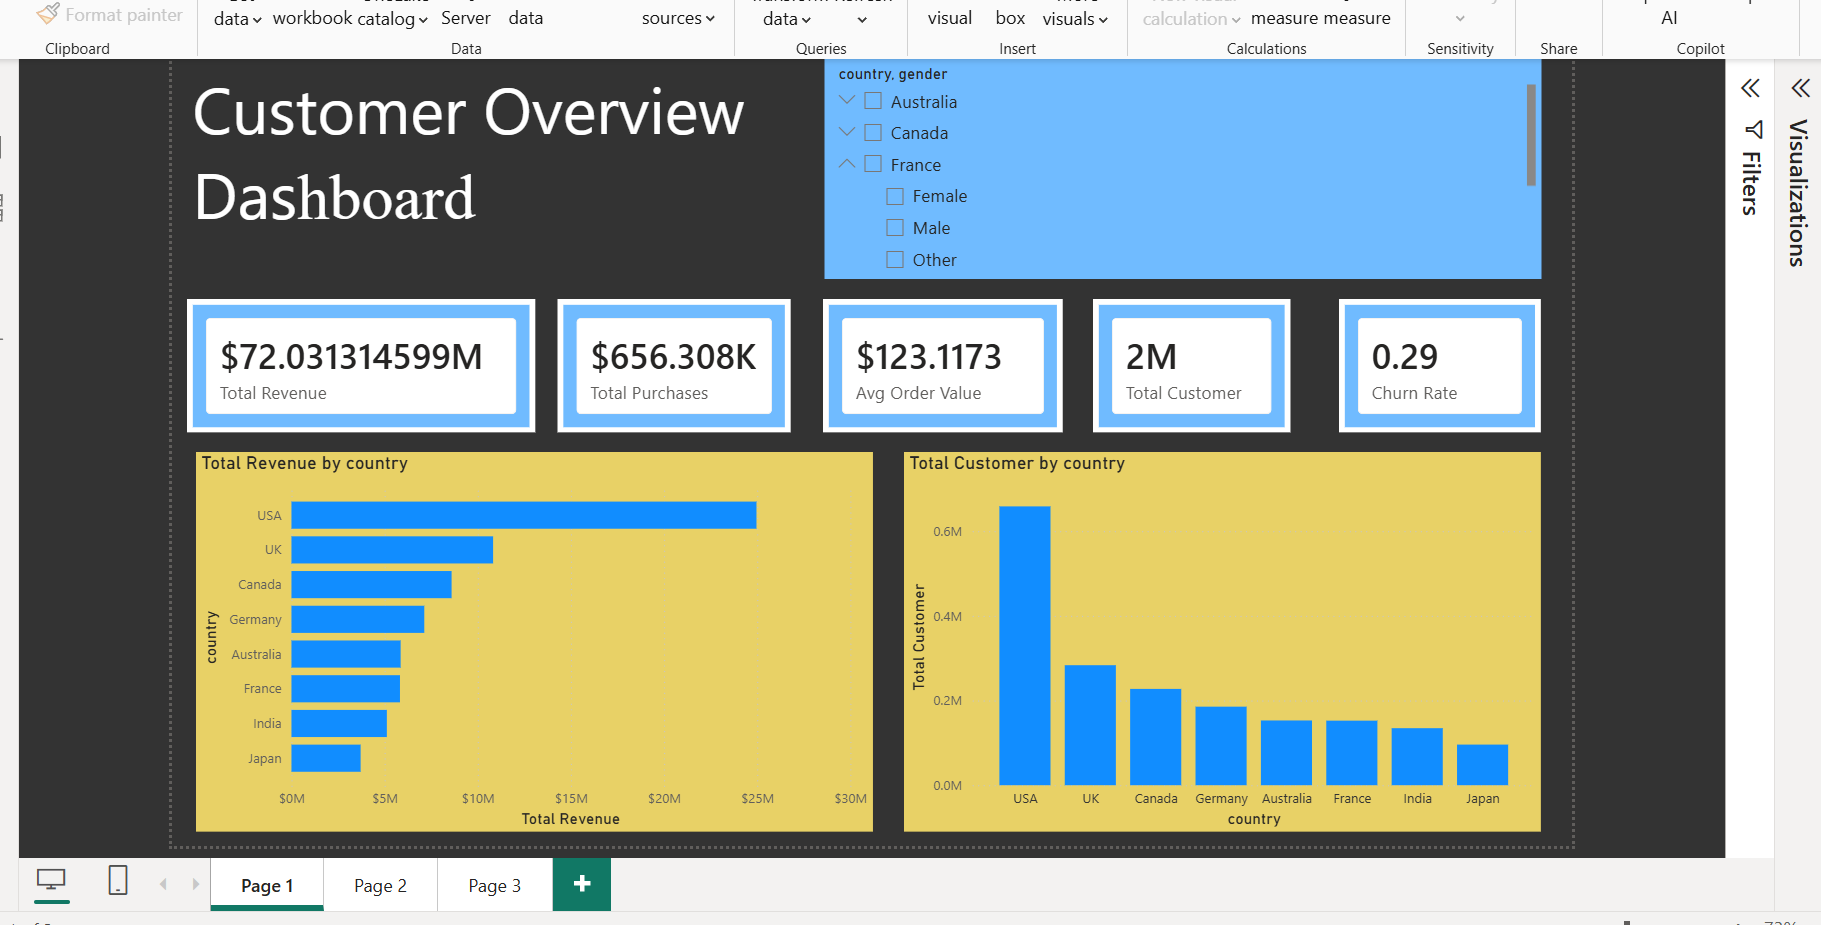

The dashboard page shown, as its layout file describes it:
{"tool":"powerbi","page":{"name":"Page 1","canvas":[1280,720],"ordinal":0},"visuals":[{"type":"cardVisual","fields":{"Data":["customer.Total Revenue"]},"box":[13.6,219.4,318.4,122.3],"z":0},{"type":"cardVisual","fields":{"Data":["customer.Total Customer"]},"box":[842.6,219.4,180.5,122.3],"z":1000},{"type":"cardVisual","fields":{"Data":["customer.Avg Order Value"]},"box":[596,219.4,219.4,122.3],"z":2000},{"type":"cardVisual","fields":{"Data":["customer.Churn Rate"]},"box":[1067.8,219.4,184.4,122.3],"z":3000},{"type":"cardVisual","fields":{"Data":["customer.Total Purchases"]},"box":[353.3,219.4,213.6,122.3],"z":4000},{"type":"barChart","fields":{"Y":["customer.Total Revenue"],"Category":["customer.country"]},"box":[21.4,359.2,619.3,347.5],"z":5000},{"type":"columnChart","fields":{"Category":["customer.country"],"Y":["customer.Total Customer"]},"box":[669.8,359.2,582.4,347.5],"z":6000},{"type":"textbox","box":[13.8,0,779.4,171.2],"z":8000},{"type":"slicer","fields":{"Values":["customer.country","customer.gender"]},"box":[596.4,0,655.4,200.8],"z":8500}]}

Visuals, with their boxes on the page's 1280x720 design canvas (x1, y1, x2, y2). These are canvas units, not pixel positions in the 1821x925 screenshot, which may show the page scaled, cropped or inside an application window:
cardVisual - customer.Total Revenue: {"x1": 14, "y1": 219, "x2": 332, "y2": 342}
cardVisual - customer.Total Customer: {"x1": 843, "y1": 219, "x2": 1023, "y2": 342}
cardVisual - customer.Avg Order Value: {"x1": 596, "y1": 219, "x2": 815, "y2": 342}
cardVisual - customer.Churn Rate: {"x1": 1068, "y1": 219, "x2": 1252, "y2": 342}
cardVisual - customer.Total Purchases: {"x1": 353, "y1": 219, "x2": 567, "y2": 342}
barChart - customer.Total Revenue x customer.country: {"x1": 21, "y1": 359, "x2": 641, "y2": 707}
columnChart - customer.country x customer.Total Customer: {"x1": 670, "y1": 359, "x2": 1252, "y2": 707}
textbox: {"x1": 14, "y1": 0, "x2": 793, "y2": 171}
slicer - customer.country x customer.gender: {"x1": 596, "y1": 0, "x2": 1252, "y2": 201}
